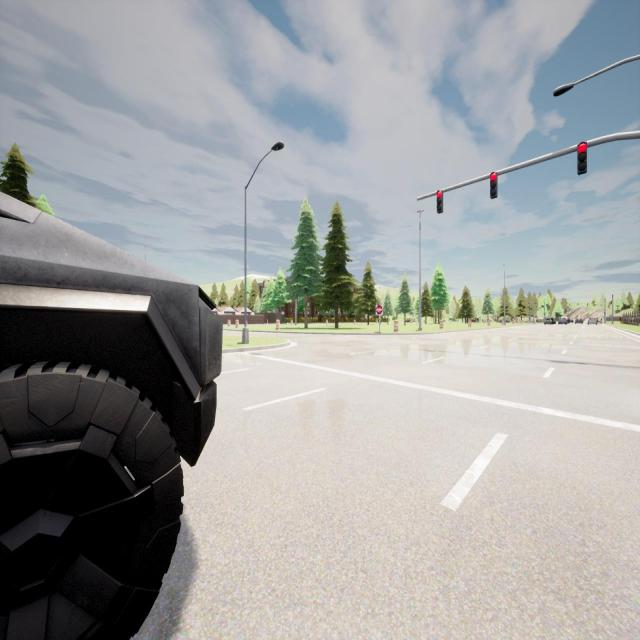Pedestrian: (619, 315, 622, 324), (601, 317, 602, 324)
Traffic_Signs: (375, 305, 383, 315)
Vehicle: (0, 193, 221, 638), (560, 316, 570, 324), (587, 318, 598, 325), (544, 316, 552, 324), (558, 318, 567, 324), (575, 318, 584, 324), (552, 318, 556, 324), (570, 319, 574, 323)
traffic_light: (577, 142, 587, 176), (490, 172, 498, 198), (437, 190, 443, 213), (604, 312, 605, 315), (577, 303, 578, 306), (587, 303, 588, 306), (570, 304, 570, 306)
